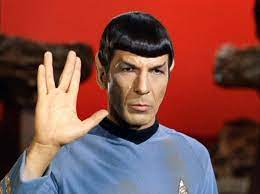LiveLong: (32, 49, 109, 149)
